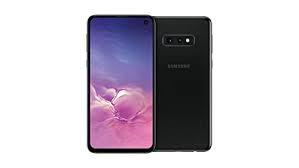Smartphone: (90, 16, 155, 150), (155, 18, 213, 152)
